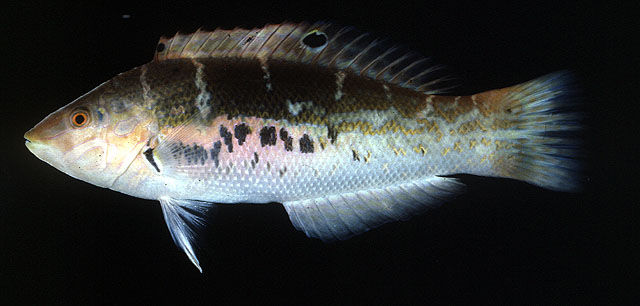fish: (24, 22, 577, 273)
